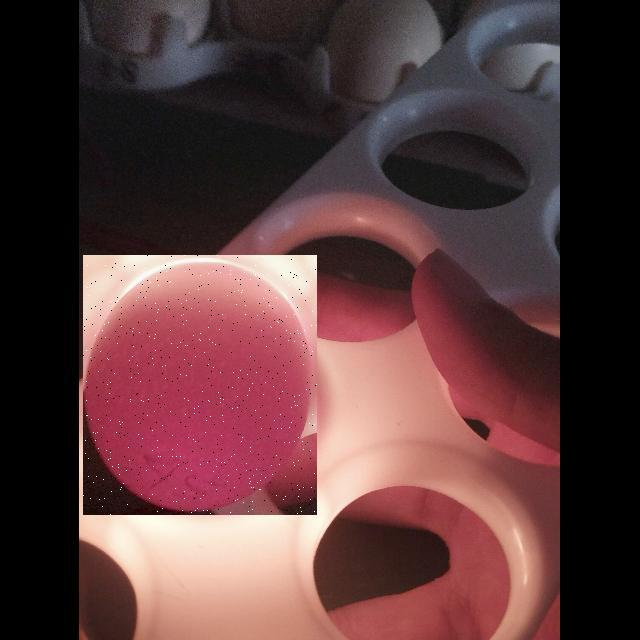Infertile: (83, 255, 317, 515)
